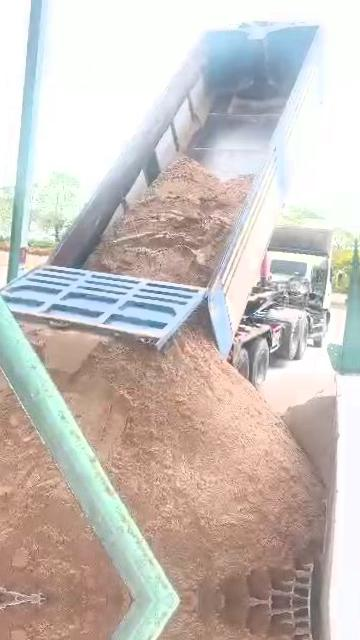sand: (24, 309, 333, 601), (0, 356, 130, 600), (86, 159, 250, 285)
